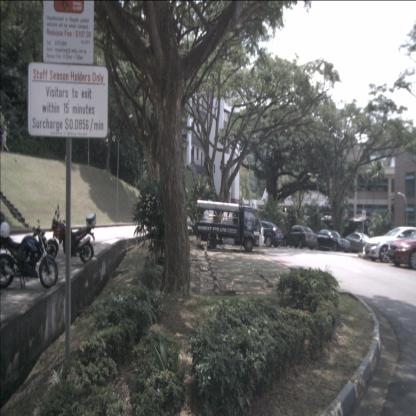human-pedestrian-adult: (1, 127, 9, 152)
vehicle-car: (362, 226, 416, 264), (387, 230, 416, 270), (244, 220, 284, 248), (282, 224, 318, 249), (314, 229, 351, 252), (344, 233, 376, 255)
vehicle-motorcycle: (0, 211, 58, 289), (42, 209, 96, 265)
vehicle-truck: (195, 199, 265, 252)
